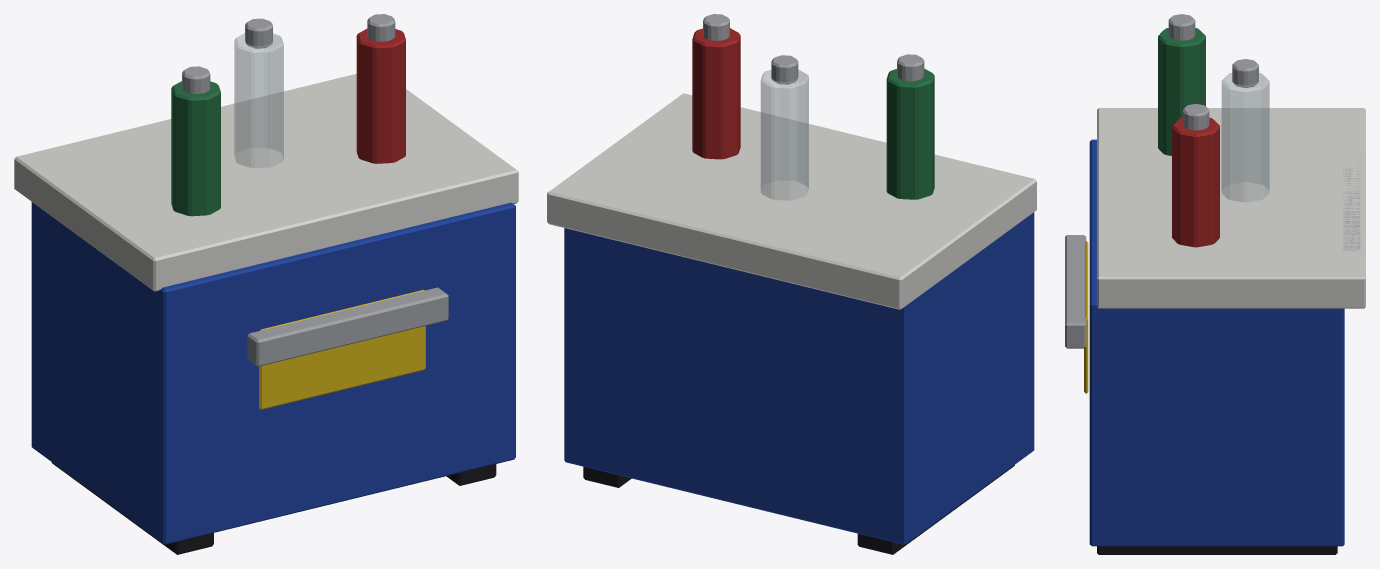
File: PRP_Cooler_ML_v001.glb
3 views of the same model, side by side, from view 1: azimuth 30°, elevation 25°; view 2: azimuth 150°, elevation 25°; view 3: azimuth 270°, elevation 25° (orthographic). The views are drawn at different scales.
Parts seen in each view (by area): view 1: PRP_Cooler_ML_v001; view 2: PRP_Cooler_ML_v001; view 3: PRP_Cooler_ML_v001.
Boxes of the visible parts, x1=… form: PRP_Cooler_ML_v001: x1=14, y1=14, x2=518, y2=554; PRP_Cooler_ML_v001: x1=547, y1=14, x2=1036, y2=554; PRP_Cooler_ML_v001: x1=1065, y1=14, x2=1365, y2=554.
Bounding box in the file's own units: 0.57 × 0.65 × 0.425.
